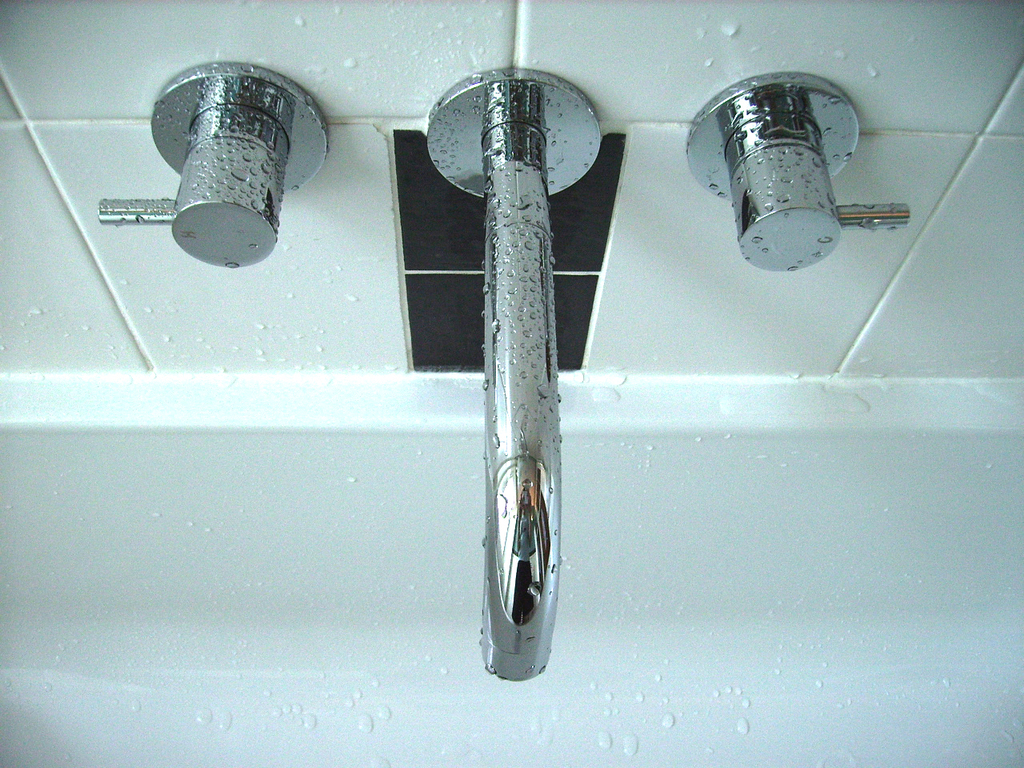tap: (426, 63, 606, 682), (656, 73, 919, 317)
